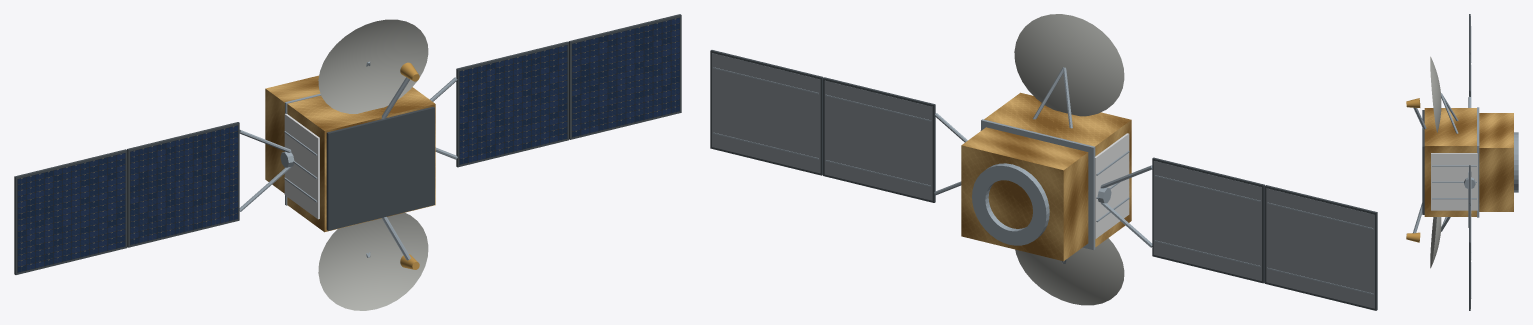
The model's file is ref-yamal-28089.glb.
3 views of the same model, side by side, from view 1: azimuth 30°, elevation 25°; view 2: azimuth 150°, elevation 25°; view 3: azimuth 270°, elevation 25° (orthographic). The views are drawn at different scales.
Visible parts, largest first — view 1: Solar cell panel (×4), Communications reflector (×2), Earth-facing deck, Solar panel frame (×4), Payload module, Radiator face, Service module; view 2: Rear array substrate (×4), Communications reflector (×2), Service module, Solar panel frame (×4), Payload module, Launch adapter ring, Radiator face, Module interface; view 3: Service module, Payload module, Radiator face, Communications reflector (×2), Launch adapter ring, Earth-facing deck, Module interface, Feed horn (×2), Solar panel frame, Offset feed boom (×2), Shell hinge strut, Rear array substrate (+1 smaller).
Boxes of the visible parts, left/top/right/bottom form: Solar cell panel (×4): left=17, top=17, right=679, bottom=272; Communications reflector (×2): left=318, top=19, right=428, bottom=310; Earth-facing deck: left=326, top=106, right=434, bottom=230; Solar panel frame (×4): left=14, top=14, right=681, bottom=274; Payload module: left=287, top=87, right=435, bottom=232; Radiator face: left=284, top=113, right=319, bottom=219; Service module: left=265, top=75, right=320, bottom=193; Rear array substrate (×4): left=712, top=53, right=1374, bottom=308; Communications reflector (×2): left=1014, top=14, right=1124, bottom=305; Service module: left=961, top=127, right=1088, bottom=261; Solar panel frame (×4): left=710, top=50, right=1377, bottom=310; Payload module: left=984, top=92, right=1131, bottom=247; Launch adapter ring: left=972, top=163, right=1049, bottom=245; Radiator face: left=1094, top=133, right=1129, bottom=238; Module interface: left=981, top=119, right=1095, bottom=249; Service module: left=1479, top=113, right=1513, bottom=211; Payload module: left=1424, top=108, right=1476, bottom=216; Radiator face: left=1431, top=153, right=1477, bottom=210; Communications reflector (×2): left=1430, top=56, right=1441, bottom=268; Launch adapter ring: left=1514, top=132, right=1518, bottom=192; Earth-facing deck: left=1422, top=110, right=1424, bottom=214; Module interface: left=1477, top=107, right=1479, bottom=217; Feed horn (×2): left=1406, top=98, right=1420, bottom=242; Solar panel frame: left=1469, top=204, right=1470, bottom=310; Offset feed boom (×2): left=1413, top=107, right=1426, bottom=233; Shell hinge strut: left=1441, top=94, right=1458, bottom=133; Rear array substrate: left=1470, top=206, right=1470, bottom=308.
Size of the model in its own units: 11.98 by 4.95 by 2.49.
8 materials, 2 textured.
